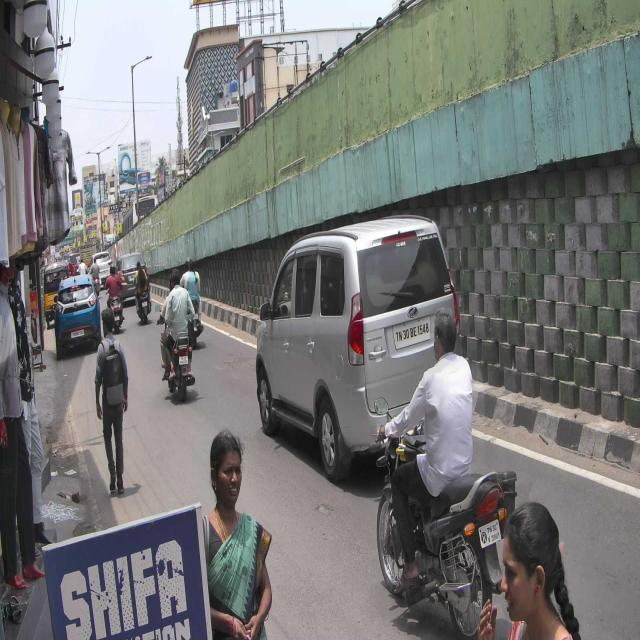single_rider: (374, 307, 505, 636)
